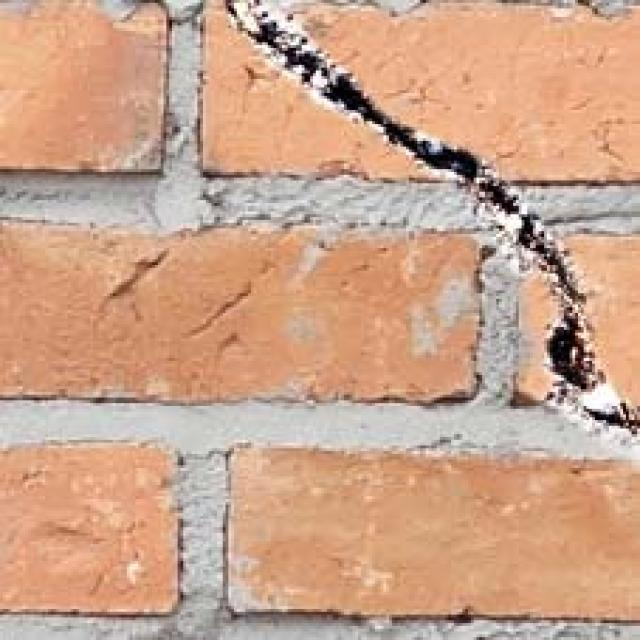Crack: (169, 0, 640, 468)
